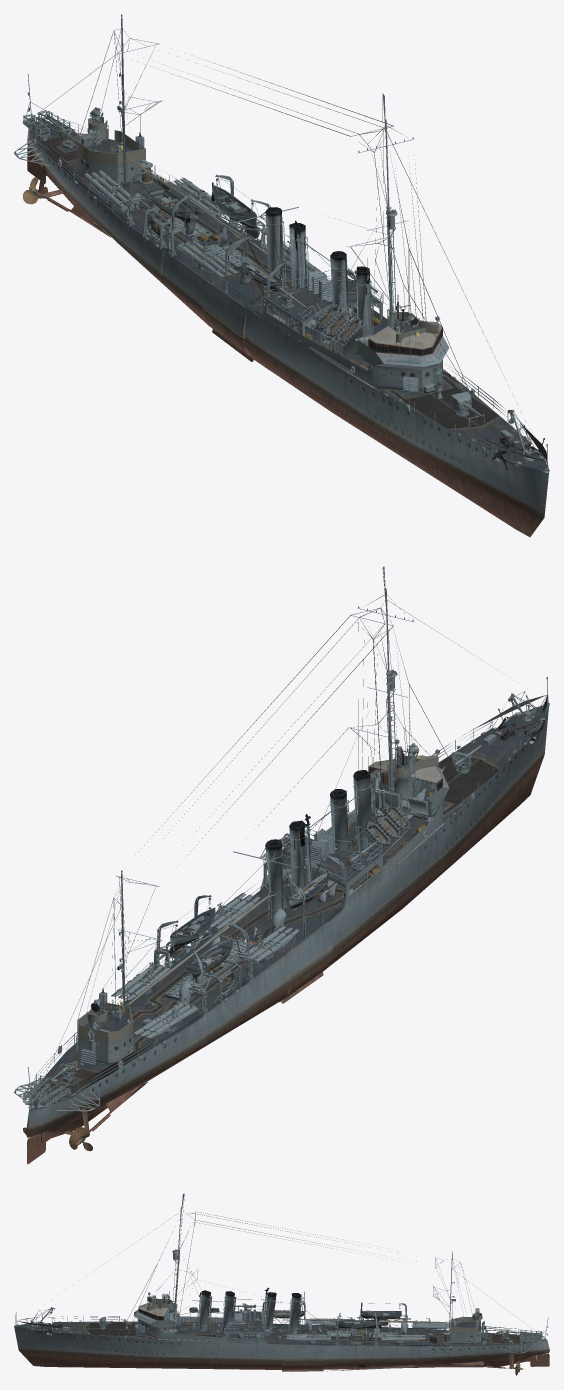
The model's file is warship_ww12_us_dd.glb.
3 views of the same model, one above another, from view 1: azimuth 30°, elevation 25°; view 2: azimuth 150°, elevation 25°; view 3: azimuth 270°, elevation 25° (orthographic). The views are drawn at different scales.
Parts seen in each view (by area): view 1: Object_67, Object_33, Object_44, Object_68, Object_54, Object_35, Object_47, Object_9, Object_55, Object_61, Object_16; view 2: Object_67, Object_33, Object_44, Object_68, Object_54, Object_35, Object_47, Object_55, Object_9, Object_16, Object_61; view 3: Object_67, Object_33, Object_44, Object_68, Object_54, Object_35, Object_9, Object_16, Object_55, Object_47, Object_61.
Boxes of the visible parts, left/top/right/bottom form: Object_67: left=225, top=93, right=549, bottom=537; Object_33: left=14, top=18, right=291, bottom=332; Object_44: left=173, top=63, right=546, bottom=466; Object_68: left=202, top=223, right=306, bottom=361; Object_54: left=167, top=177, right=324, bottom=277; Object_35: left=30, top=28, right=266, bottom=284; Object_47: left=147, top=218, right=363, bottom=343; Object_9: left=211, top=182, right=256, bottom=228; Object_55: left=84, top=170, right=141, bottom=212; Object_61: left=306, top=270, right=442, bottom=393; Object_16: left=144, top=183, right=191, bottom=222; Object_67: left=233, top=566, right=549, bottom=974; Object_33: left=14, top=874, right=292, bottom=1164; Object_44: left=138, top=568, right=547, bottom=938; Object_68: left=208, top=895, right=333, bottom=1003; Object_54: left=111, top=892, right=299, bottom=1000; Object_35: left=30, top=876, right=295, bottom=1102; Object_47: left=170, top=805, right=409, bottom=992; Object_55: left=133, top=1001, right=198, bottom=1038; Object_9: left=170, top=907, right=215, bottom=954; Object_16: left=185, top=937, right=232, bottom=980; Object_61: left=81, top=828, right=334, bottom=1066; Object_67: left=14, top=1193, right=305, bottom=1369; Object_33: left=308, top=1253, right=549, bottom=1371; Object_44: left=17, top=1195, right=372, bottom=1344; Object_68: left=282, top=1318, right=347, bottom=1371; Object_54: left=286, top=1316, right=425, bottom=1343; Object_35: left=316, top=1258, right=546, bottom=1346; Object_9: left=335, top=1318, right=381, bottom=1328; Object_16: left=360, top=1310, right=401, bottom=1318; Object_55: left=412, top=1317, right=450, bottom=1331; Object_47: left=189, top=1307, right=388, bottom=1342; Object_61: left=138, top=1309, right=487, bottom=1339.
Bounding box in the file's own units: 0.6396 × 2.3 × 6.39.
64 materials, 64 textured.
